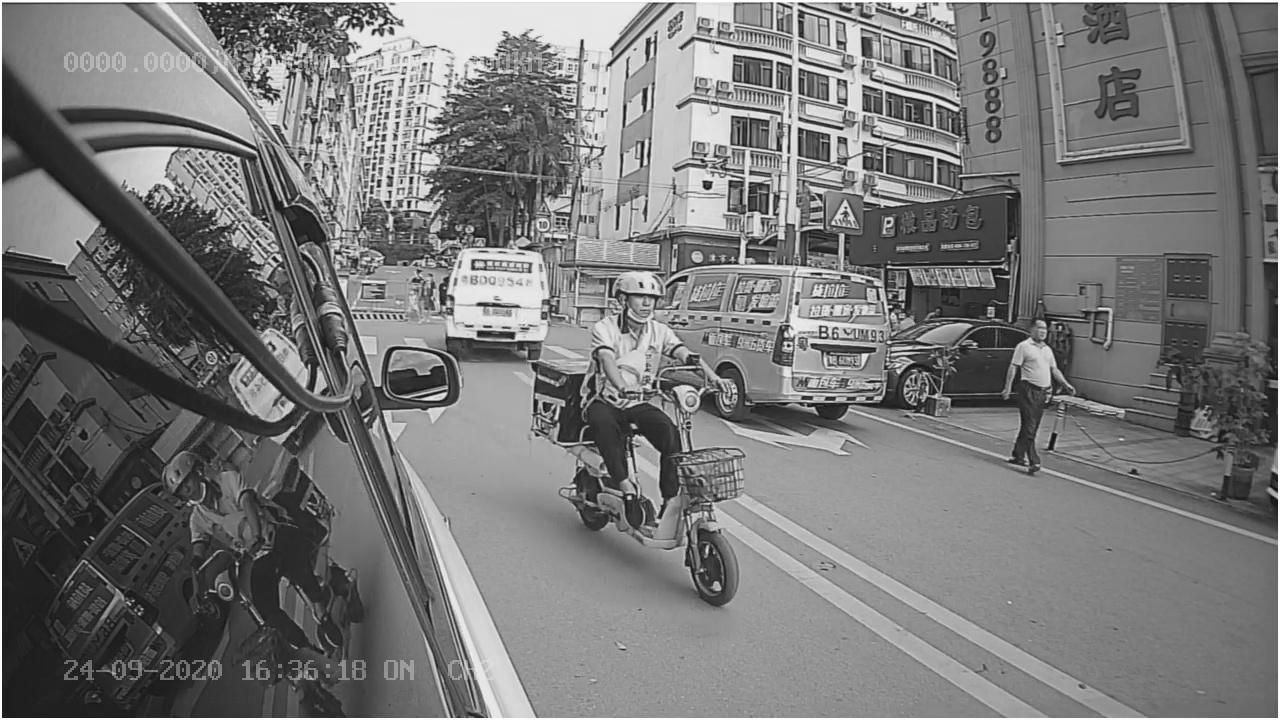person: (982, 307, 1083, 484)
